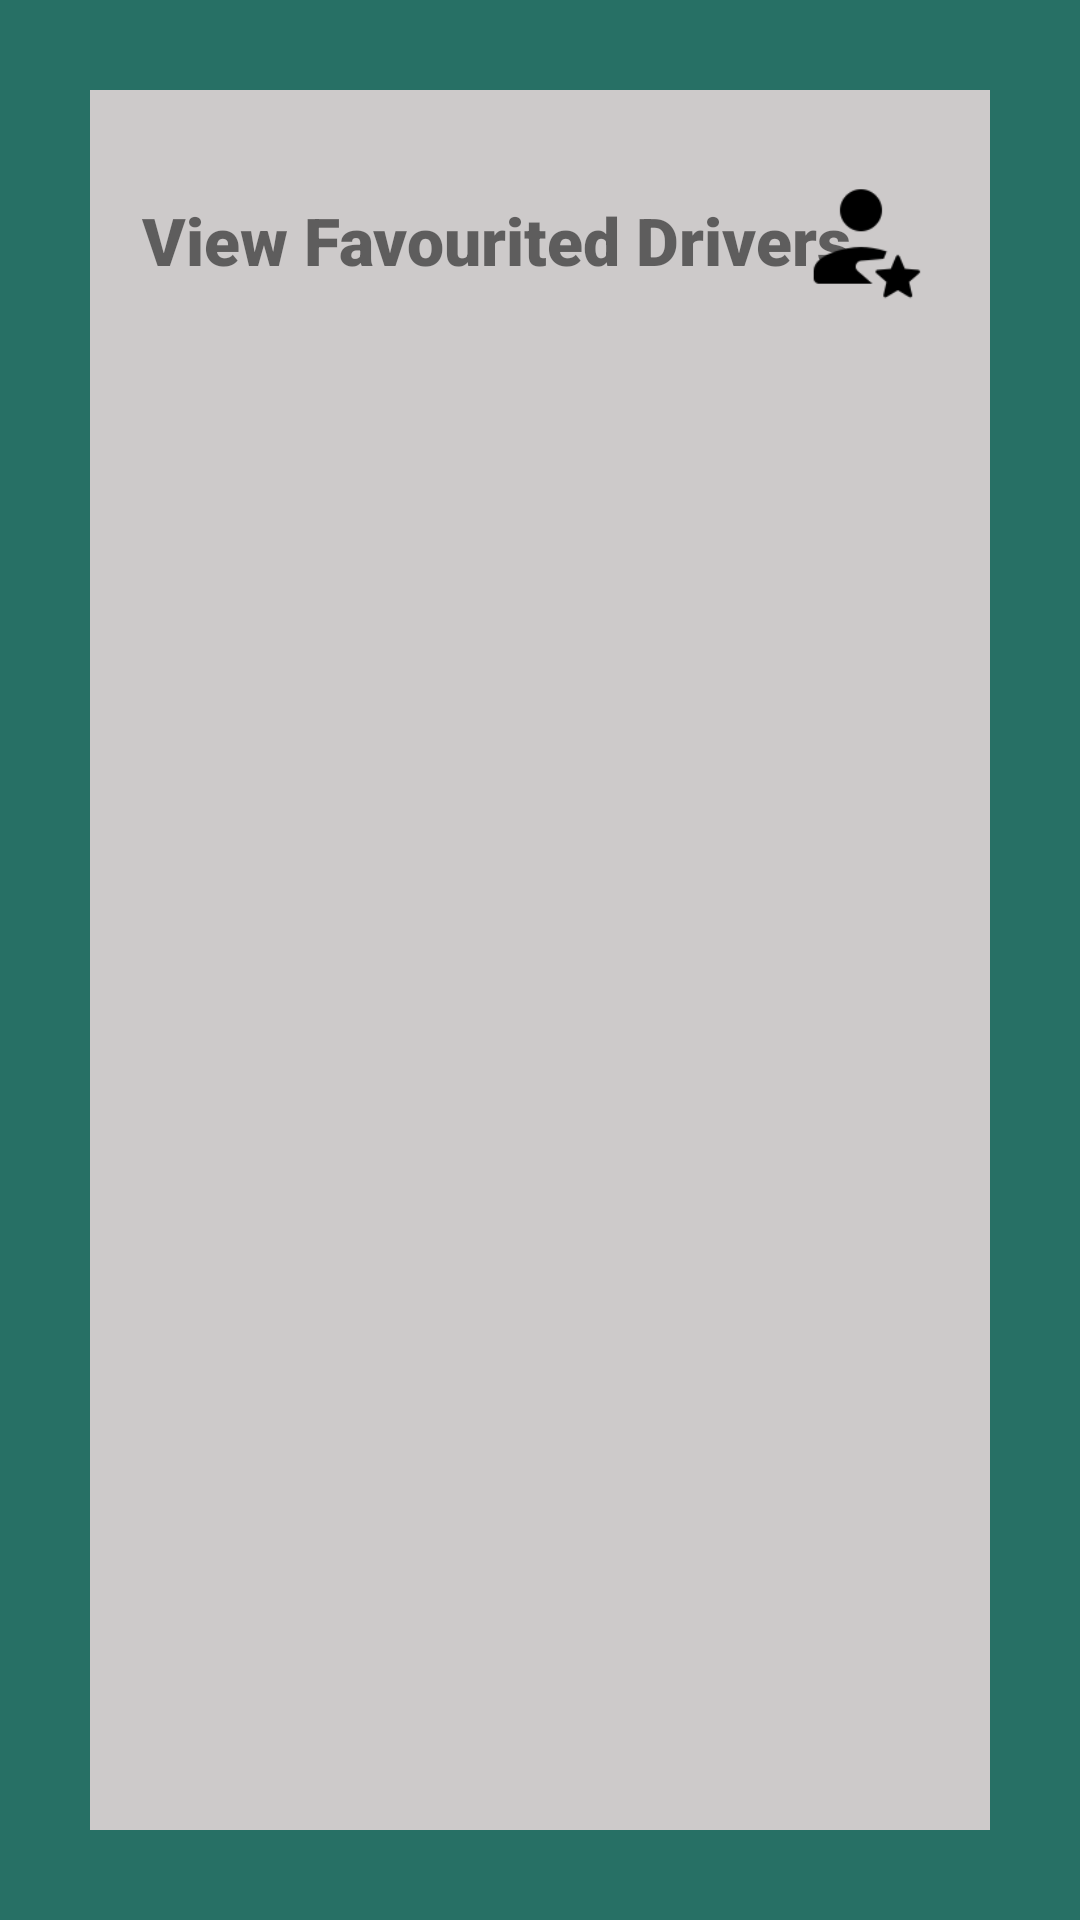

Screen size 1080x1920. Icon name, then its center in pixels as [x,y]:
popular man: [859,243]
